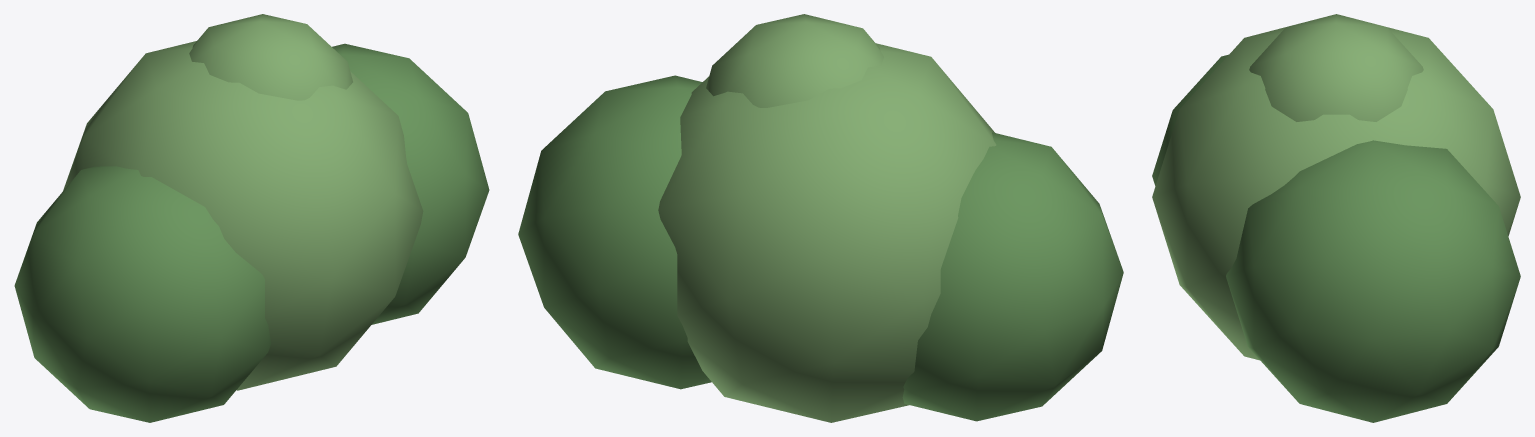
Rendered from bush.glb.
3 views of the same model, side by side, from view 1: azimuth 30°, elevation 25°; view 2: azimuth 150°, elevation 25°; view 3: azimuth 270°, elevation 25° (orthographic). The views are drawn at different scales.
Parts seen in each view (by area): view 1: cluster_main, cluster_left, cluster_right, cluster_top; view 2: cluster_main, cluster_left, cluster_right, cluster_top; view 3: cluster_right, cluster_main, cluster_top, cluster_left.
Part boxes in pixels (<box>): cluster_main: <box>63,41,423,390</box>; cluster_left: <box>14,166,271,422</box>; cluster_right: <box>332,43,489,324</box>; cluster_top: <box>189,14,352,100</box>; cluster_main: <box>658,43,996,422</box>; cluster_left: <box>902,132,1123,421</box>; cluster_right: <box>518,75,711,389</box>; cluster_top: <box>706,14,883,107</box>; cluster_right: <box>1226,140,1520,422</box>; cluster_main: <box>1152,14,1520,360</box>; cluster_top: <box>1249,14,1423,121</box>; cluster_left: <box>1152,54,1228,185</box>.
Bounding box in the file's own units: 1.2 × 0.84 × 0.8.
